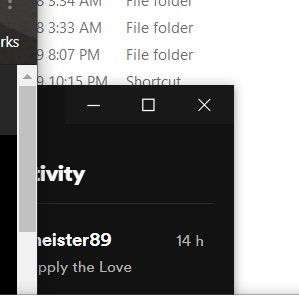close: (189, 91, 221, 119)
